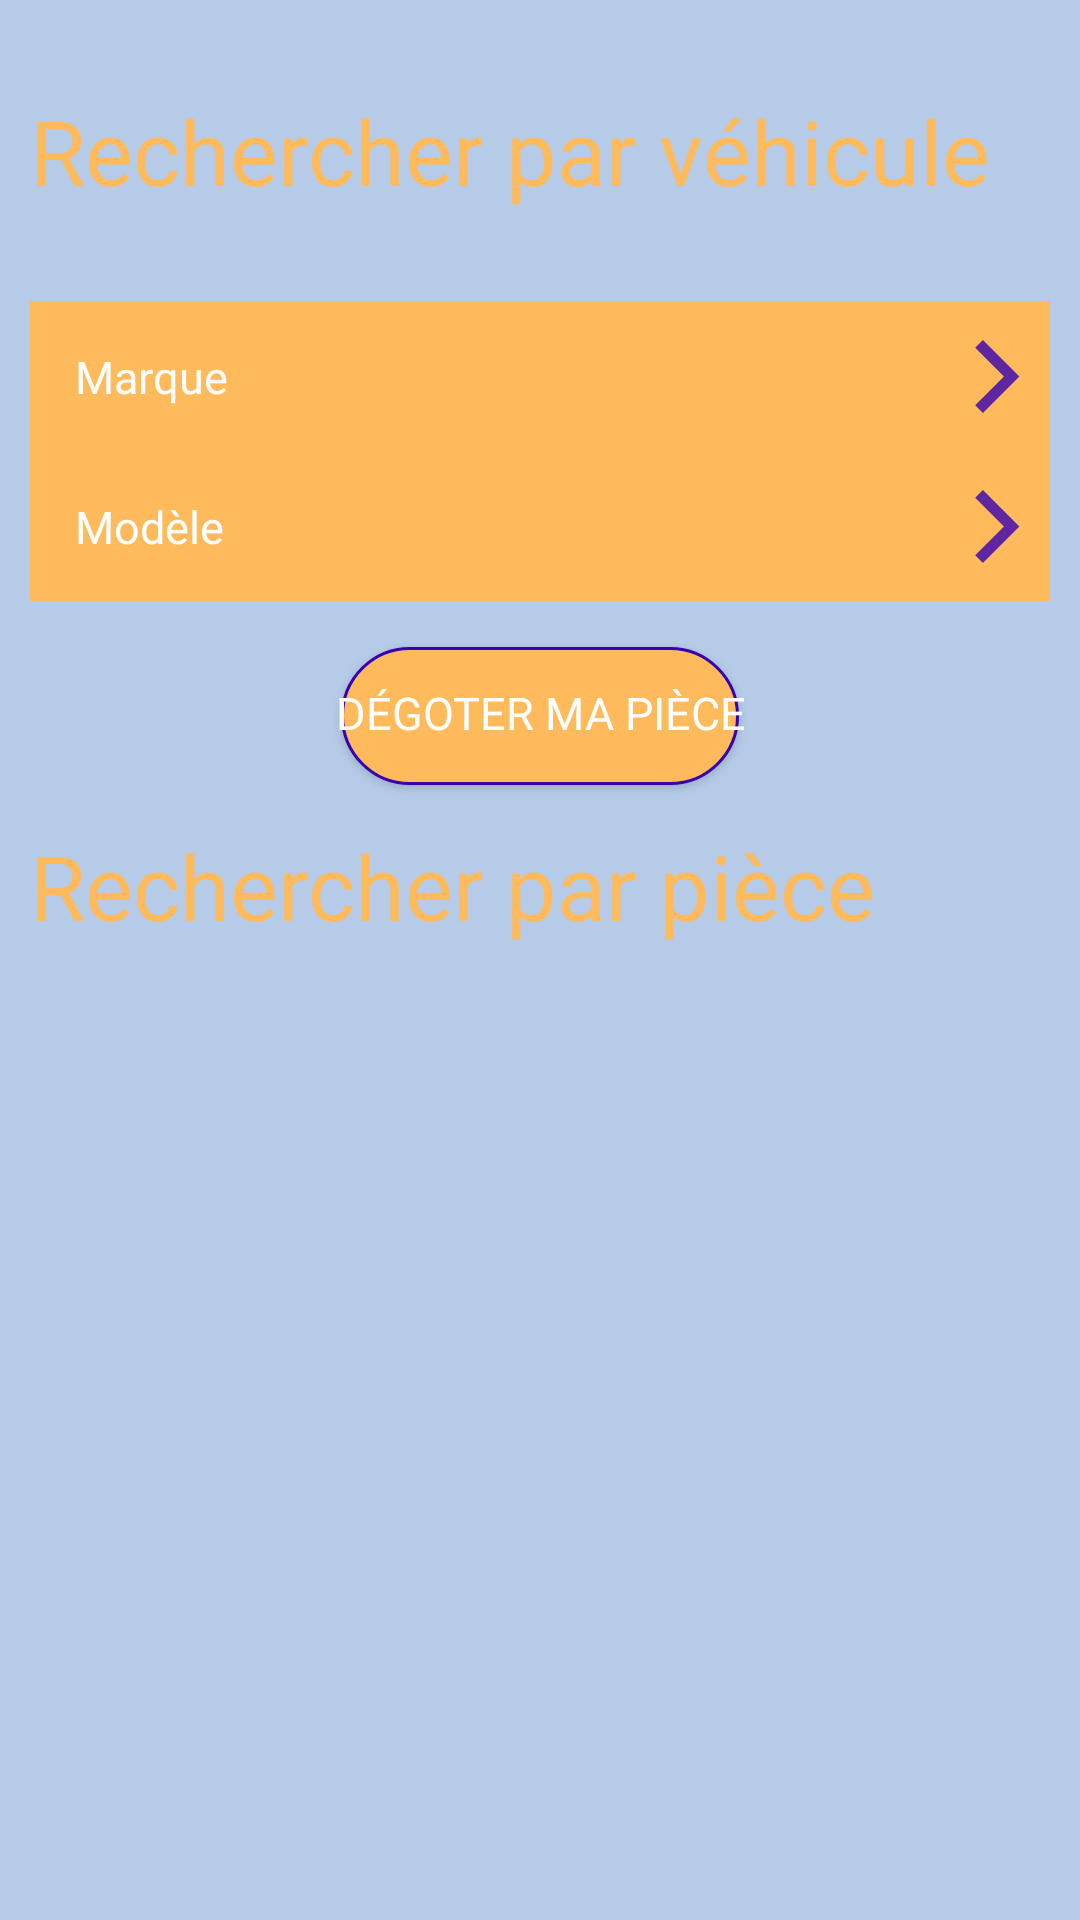

Screen size 1080 × 1920. Icon name, then its center in pixels as (x,y):
arrow: (997,376), (997,526)
